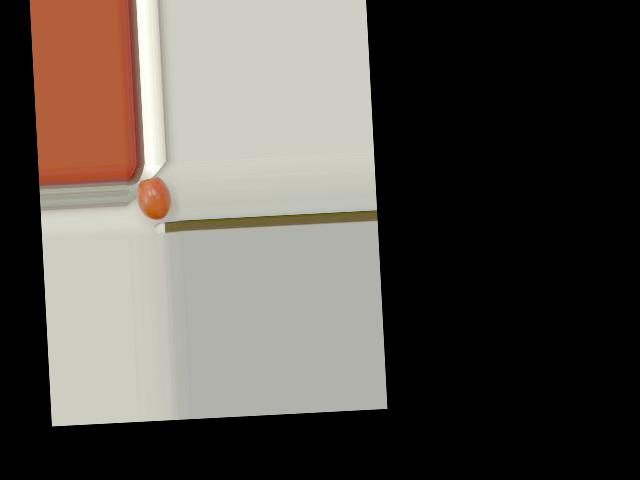tomato: (136, 176, 172, 220)
